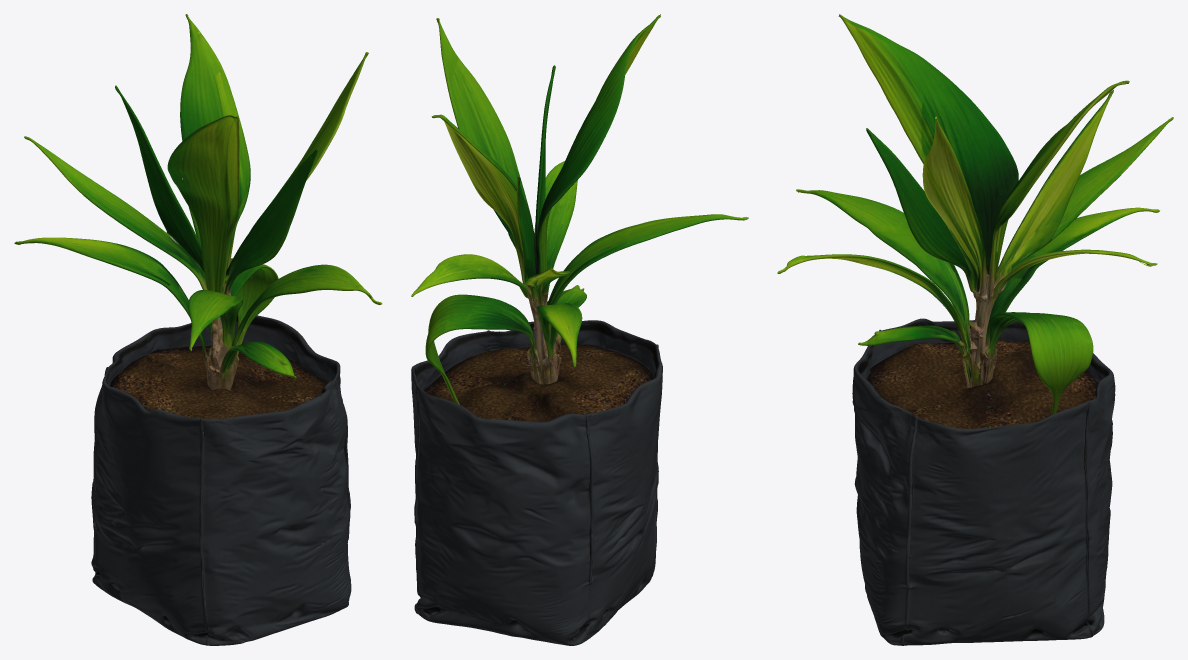
Rendered from bibitsawit4-8bulan.glb.
The picture shows the model from 3 angles, left to right: view 1: azimuth 30°, elevation 25°; view 2: azimuth 150°, elevation 25°; view 3: azimuth 270°, elevation 25°; orthographic projection. The views are drawn at different scales.
Visible parts, largest first — view 1: tripo_node_d02f909c-9481-4537-af61-44891792b7d8; view 2: tripo_node_d02f909c-9481-4537-af61-44891792b7d8; view 3: tripo_node_d02f909c-9481-4537-af61-44891792b7d8.
Part boxes in pixels (x1=…): tripo_node_d02f909c-9481-4537-af61-44891792b7d8: x1=14, y1=14, x2=382, y2=645; tripo_node_d02f909c-9481-4537-af61-44891792b7d8: x1=411, y1=14, x2=748, y2=645; tripo_node_d02f909c-9481-4537-af61-44891792b7d8: x1=777, y1=14, x2=1173, y2=645.
Bounding box in the file's own units: 0.4673 × 0.9818 × 0.6264.
1 material, 1 textured.
